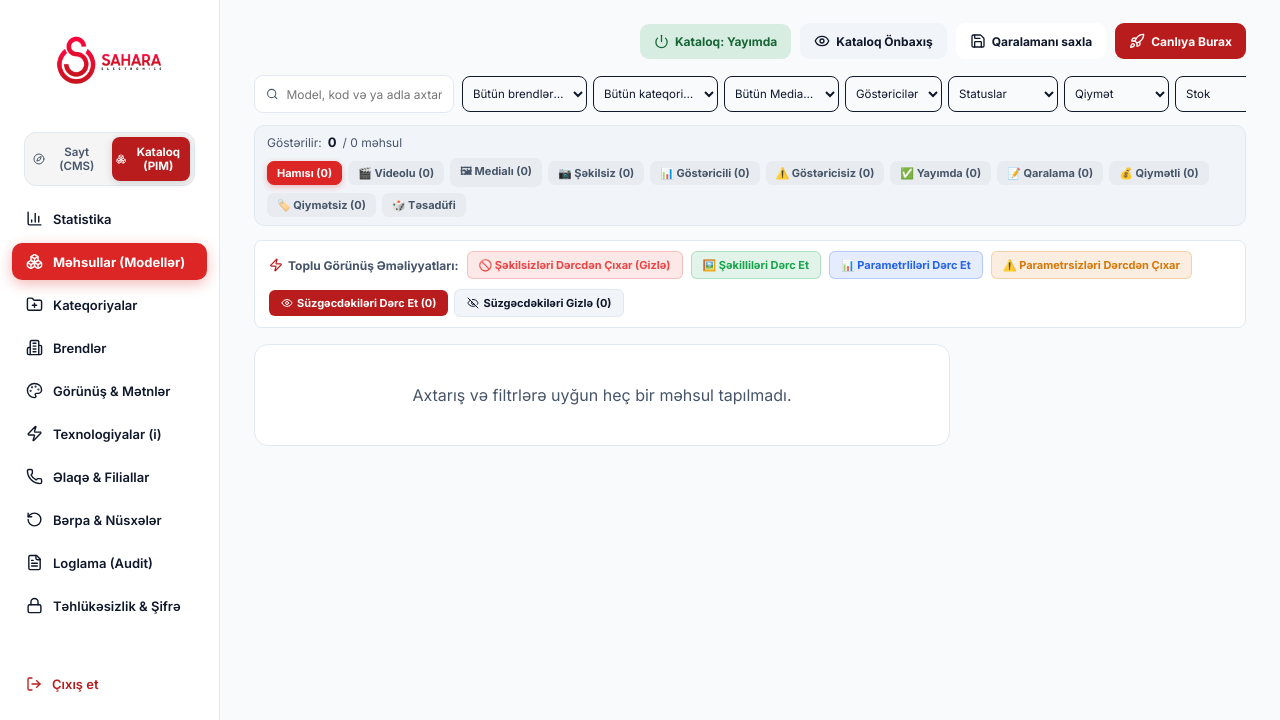
it: Catalog Admin Refinements: CSV/Excel Removal & Essential Tabs Integration › 4. Verifies navigating to "Əlaqə & Filiallar" in Catalog Admin displays ContactManager with addresses
This screenshot has width=1280, height=720.
Click the button "Əlaqə & Filiallar": click(110, 476) [12,458,207,495]
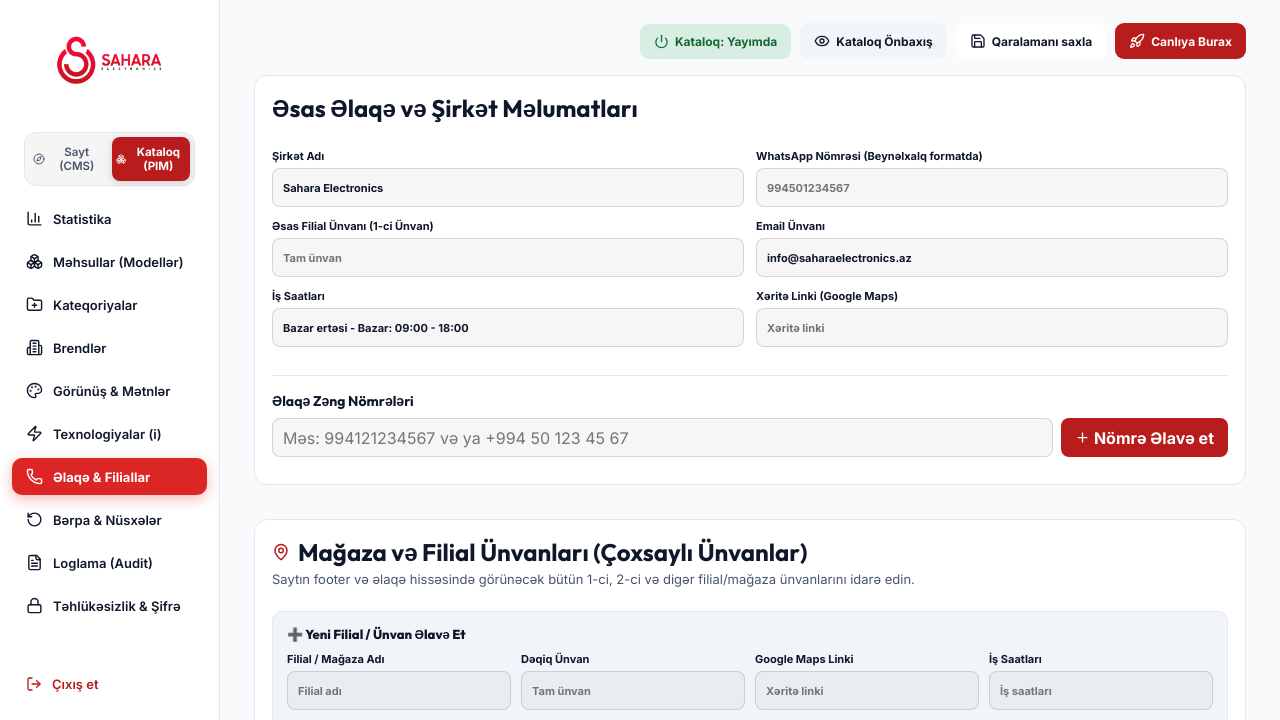
Expected: the heading "Əsas Əlaqə və Şirkət Məlumatları" is shown, [272,93,638,123]
Expected: the field with placeholder "Sahara Electronics" is shown, [272,168,744,207]
Expected: the field with placeholder "994501234567" is shown, [756,168,1228,207]
